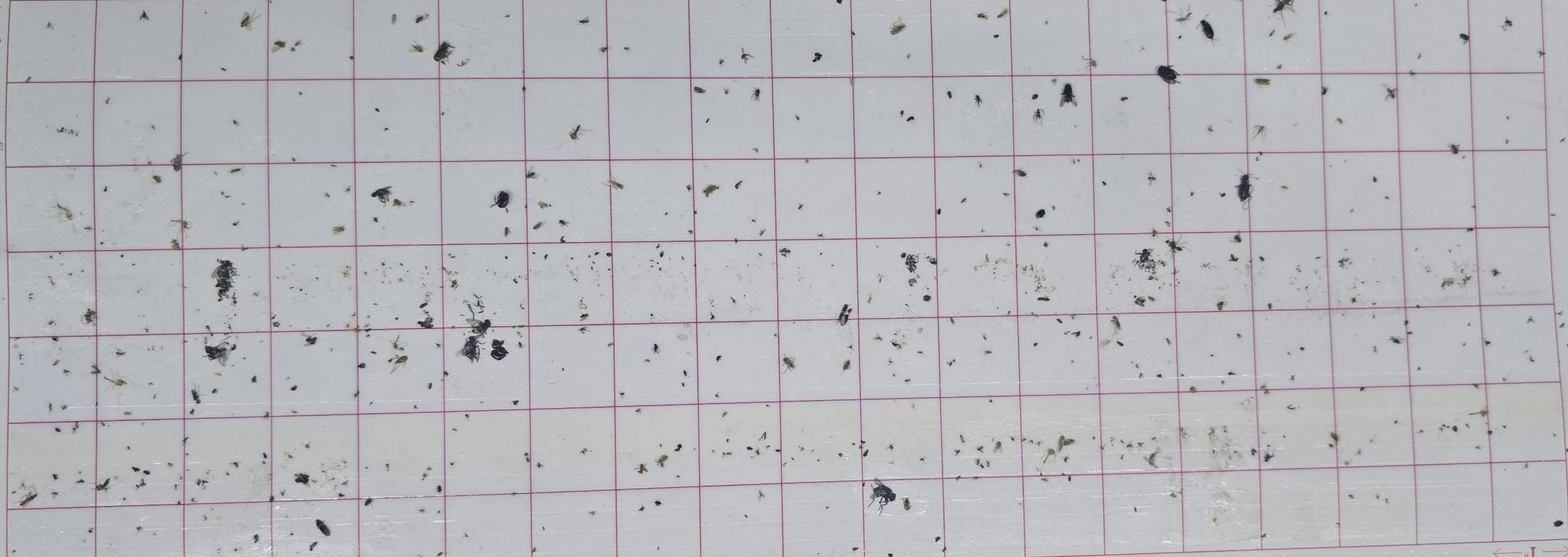fly: (210, 256, 241, 307), (197, 342, 241, 373), (863, 473, 903, 506), (1153, 60, 1188, 90), (459, 338, 488, 364), (1058, 80, 1082, 111), (1237, 168, 1257, 205), (485, 337, 511, 364), (468, 316, 497, 338), (429, 40, 454, 63), (490, 186, 512, 212)
test: (897, 247, 930, 283), (1133, 243, 1160, 281), (51, 197, 80, 223), (168, 148, 192, 177), (99, 373, 133, 393), (15, 492, 46, 512), (837, 298, 857, 329), (305, 517, 338, 535), (53, 121, 82, 141), (1164, 234, 1186, 259), (603, 174, 630, 194), (75, 303, 101, 323), (1444, 137, 1467, 159), (93, 475, 115, 497), (261, 37, 291, 53), (303, 327, 323, 351), (495, 223, 519, 243), (329, 217, 351, 238), (1254, 71, 1277, 91), (894, 493, 921, 510), (1270, 0, 1298, 16), (886, 18, 912, 35), (1080, 51, 1106, 68), (735, 46, 757, 66), (1199, 18, 1217, 42), (700, 181, 724, 199), (225, 159, 249, 177), (387, 353, 411, 371), (1467, 404, 1491, 422), (1175, 5, 1195, 26), (1257, 376, 1277, 397), (521, 166, 543, 185), (238, 9, 261, 27), (40, 15, 58, 38), (265, 311, 281, 336), (1057, 433, 1077, 453), (779, 356, 800, 375), (1389, 331, 1407, 353), (371, 186, 391, 205), (1250, 122, 1270, 141), (1107, 309, 1126, 329), (417, 314, 437, 333), (563, 122, 581, 143), (1531, 44, 1552, 62), (135, 4, 152, 26), (190, 383, 207, 405), (192, 473, 214, 490), (1139, 450, 1162, 466), (634, 459, 654, 477), (245, 528, 269, 543), (656, 451, 674, 471), (199, 320, 219, 338), (1186, 380, 1204, 400), (292, 470, 313, 487), (1009, 163, 1031, 179), (431, 479, 450, 497), (1522, 311, 1541, 329), (225, 115, 245, 132), (1204, 117, 1221, 137), (214, 185, 238, 199), (691, 82, 713, 97), (645, 340, 667, 355), (20, 71, 42, 86), (1497, 13, 1515, 31), (148, 168, 166, 186), (1385, 82, 1402, 101), (970, 91, 989, 108), (166, 234, 186, 250), (1499, 110, 1519, 126), (535, 197, 556, 212), (1212, 296, 1226, 318), (347, 386, 369, 400), (989, 439, 1011, 453), (413, 9, 431, 26), (318, 188, 336, 205), (943, 356, 961, 373), (387, 334, 404, 352), (1040, 448, 1058, 465), (810, 49, 826, 68), (749, 86, 768, 102), (945, 314, 961, 333), (1131, 291, 1150, 307), (618, 38, 634, 57), (1160, 201, 1179, 217), (387, 7, 402, 27), (1228, 228, 1248, 243), (1140, 168, 1160, 183), (177, 433, 197, 448), (256, 406, 272, 424), (711, 351, 727, 369), (446, 274, 462, 292), (366, 212, 384, 228), (1458, 26, 1471, 48), (1332, 113, 1347, 132), (1001, 188, 1022, 201), (524, 543, 545, 556), (941, 86, 958, 102), (1276, 179, 1292, 196), (236, 241, 252, 258), (409, 40, 424, 58), (731, 175, 749, 190), (1223, 252, 1241, 267), (305, 539, 323, 554), (1318, 82, 1332, 101), (1279, 29, 1299, 42), (773, 245, 793, 258), (110, 347, 130, 360), (119, 406, 135, 422), (1519, 457, 1535, 473), (585, 503, 601, 519), (227, 216, 243, 232), (1069, 327, 1084, 344), (958, 429, 970, 450), (48, 329, 62, 347), (172, 217, 194, 228), (996, 7, 1012, 22), (530, 219, 546, 234), (1029, 207, 1046, 221), (1184, 185, 1201, 199), (866, 331, 883, 345), (360, 495, 378, 508), (678, 365, 696, 378), (1223, 367, 1241, 380), (1034, 473, 1052, 486), (837, 356, 852, 371), (51, 424, 66, 439), (948, 471, 963, 486), (574, 15, 590, 29), (1033, 108, 1047, 124), (1261, 450, 1277, 464), (88, 362, 102, 378), (174, 48, 188, 64), (1148, 225, 1162, 241), (757, 426, 773, 440), (799, 152, 815, 166), (461, 408, 477, 422), (369, 104, 386, 117), (44, 400, 57, 417), (846, 539, 863, 552), (753, 227, 771, 239), (1488, 265, 1502, 280), (508, 395, 523, 409), (930, 532, 945, 546), (901, 373, 916, 387), (974, 457, 989, 471), (1285, 369, 1299, 384), (598, 40, 614, 53), (1550, 517, 1566, 530), (101, 93, 117, 106), (1232, 327, 1248, 340), (651, 497, 669, 508), (934, 205, 948, 219), (44, 274, 58, 288), (1029, 88, 1044, 101), (287, 382, 300, 397), (1038, 294, 1053, 307), (1118, 93, 1133, 106), (71, 418, 84, 433), (424, 378, 439, 391), (1115, 336, 1128, 351), (700, 111, 713, 126), (713, 389, 726, 404), (50, 487, 63, 502), (80, 223, 95, 236), (1339, 255, 1352, 270), (956, 194, 972, 206), (523, 450, 535, 466), (258, 448, 270, 464), (300, 439, 316, 451), (981, 347, 998, 358), (1255, 530, 1272, 541), (126, 461, 139, 475), (353, 360, 367, 373), (554, 234, 568, 247), (48, 471, 62, 484), (616, 386, 629, 400), (340, 183, 353, 197), (163, 457, 177, 470), (141, 466, 155, 479), (863, 292, 876, 306), (718, 408, 733, 420), (281, 450, 296, 462), (393, 197, 409, 208), (1356, 382, 1367, 398), (554, 216, 570, 227), (715, 53, 726, 69), (1159, 216, 1175, 227), (1371, 340, 1382, 356), (722, 82, 731, 101), (974, 7, 987, 20), (1482, 338, 1495, 351), (58, 400, 71, 413), (146, 119, 159, 132), (859, 446, 872, 459), (755, 486, 768, 499), (729, 234, 742, 247), (446, 457, 459, 470), (291, 37, 303, 51), (263, 494, 277, 506), (1413, 298, 1425, 312), (1466, 221, 1477, 236), (517, 82, 532, 93), (795, 197, 806, 212), (923, 292, 934, 307), (751, 144, 766, 155), (974, 159, 989, 170), (101, 181, 113, 194), (1266, 300, 1279, 312), (1413, 49, 1425, 62), (1135, 369, 1147, 382), (1330, 428, 1341, 442), (247, 373, 261, 384), (228, 457, 239, 471), (1164, 333, 1175, 347), (576, 446, 590, 457), (576, 311, 590, 322), (446, 247, 457, 261), (1266, 26, 1277, 40), (639, 357, 654, 367), (1404, 68, 1420, 77), (26, 289, 38, 301), (1257, 250, 1270, 261), (846, 27, 859, 38), (217, 62, 228, 75), (75, 475, 88, 486), (334, 488, 345, 501), (327, 157, 338, 170), (1054, 314, 1065, 327), (978, 329, 989, 342), (813, 228, 826, 239), (1029, 307, 1040, 320), (136, 479, 147, 492), (1130, 503, 1143, 514), (1347, 206, 1360, 217), (1349, 296, 1360, 309), (1029, 338, 1044, 347), (1283, 402, 1298, 411), (1345, 490, 1360, 499), (1064, 471, 1073, 486), (682, 181, 694, 192), (885, 440, 897, 451), (170, 481, 181, 493), (366, 346, 378, 357), (97, 419, 109, 430), (1154, 370, 1165, 382), (1136, 439, 1147, 451), (1167, 488, 1179, 499), (673, 440, 683, 453), (86, 524, 99, 534), (1061, 453, 1074, 463), (1449, 424, 1462, 434), (289, 408, 303, 417), (707, 309, 716, 323), (991, 31, 1005, 40), (1371, 174, 1382, 185), (51, 356, 62, 367), (1217, 188, 1228, 199), (380, 459, 391, 470), (435, 546, 446, 557), (1526, 351, 1537, 362), (1502, 135, 1513, 146), (417, 506, 428, 517), (432, 339, 444, 349), (353, 324, 363, 336), (1098, 443, 1108, 455), (890, 341, 903, 350), (791, 108, 800, 121), (577, 325, 590, 334), (347, 51, 356, 64), (603, 340, 616, 349), (683, 227, 696, 236), (292, 86, 305, 95), (727, 294, 736, 307), (380, 124, 393, 133), (417, 300, 430, 309), (975, 444, 988, 453), (770, 447, 784, 455), (517, 339, 527, 350), (61, 368, 72, 378), (918, 456, 928, 467), (939, 544, 949, 555), (1499, 375, 1510, 385), (459, 60, 469, 71), (1248, 447, 1258, 458), (47, 318, 59, 327), (747, 216, 759, 225), (1312, 253, 1324, 262), (1205, 352, 1217, 361), (720, 449, 733, 457), (274, 243, 284, 253), (514, 329, 524, 339), (606, 249, 616, 259), (846, 342, 856, 352), (971, 473, 981, 483), (11, 384, 21, 394), (1355, 446, 1365, 456), (906, 115, 917, 124), (1100, 175, 1109, 186), (636, 503, 645, 514), (1402, 316, 1413, 325), (1471, 380, 1482, 389), (632, 404, 641, 415), (659, 249, 668, 260), (914, 347, 925, 356), (874, 188, 886, 196), (188, 496, 200, 504), (1390, 418, 1402, 426), (17, 352, 25, 364), (287, 154, 300, 161), (209, 385, 218, 395), (443, 368, 452, 378), (462, 529, 471, 539), (742, 512, 751, 522), (1126, 441, 1135, 451), (1557, 136, 1566, 146), (136, 524, 144, 535), (452, 425, 460, 436), (541, 522, 549, 533), (175, 499, 184, 508), (678, 253, 687, 262), (1416, 365, 1425, 374), (1485, 427, 1494, 436), (510, 276, 519, 285), (1220, 426, 1229, 435), (1555, 308, 1564, 317), (413, 403, 421, 413), (952, 448, 962, 456), (1149, 434, 1157, 444), (1177, 370, 1187, 378), (509, 490, 519, 498), (1068, 312, 1078, 320), (1334, 520, 1344, 528), (689, 205, 700, 212), (543, 252, 550, 263), (340, 479, 351, 486), (1559, 321, 1566, 332), (142, 326, 150, 335), (745, 443, 753, 452), (592, 250, 601, 258), (1118, 453, 1127, 461), (117, 252, 126, 260), (223, 471, 232, 479), (11, 546, 19, 555), (789, 455, 797, 464), (1284, 350, 1293, 358), (1049, 77, 1058, 85), (534, 462, 544, 469), (1342, 247, 1352, 254), (210, 168, 218, 176), (97, 239, 105, 247), (903, 301, 911, 309), (1418, 426, 1426, 434), (1474, 444, 1482, 452), (1469, 203, 1477, 211), (1549, 211, 1557, 219), (1006, 241, 1014, 249), (422, 472, 430, 480), (1299, 344, 1308, 351), (1042, 238, 1049, 247), (655, 241, 662, 250), (147, 380, 156, 387), (755, 448, 762, 457), (885, 550, 894, 557), (1382, 194, 1391, 201), (1382, 498, 1391, 505), (408, 197, 417, 204), (439, 109, 448, 116), (367, 399, 376, 406), (859, 438, 868, 445), (1293, 266, 1302, 273), (426, 464, 433, 473), (200, 515, 210, 521), (151, 392, 158, 400), (399, 260, 407, 267), (906, 52, 914, 59), (182, 337, 189, 345), (518, 302, 525, 310), (675, 472, 682, 480), (836, 451, 844, 458), (1343, 459, 1351, 466), (1328, 443, 1336, 450), (1413, 245, 1420, 253), (1275, 64, 1282, 72), (1033, 226, 1041, 233), (1405, 330, 1416, 335), (379, 260, 388, 266), (79, 268, 88, 274), (233, 546, 242, 552), (1175, 35, 1184, 41), (327, 346, 334, 353), (823, 504, 830, 511), (887, 358, 894, 365), (1465, 321, 1472, 328), (1446, 248, 1453, 255), (817, 250, 824, 257), (189, 407, 196, 414), (1500, 424, 1508, 430), (502, 254, 510, 260), (531, 250, 539, 256), (506, 12, 512, 20), (12, 335, 20, 341), (194, 308, 200, 316), (1009, 435, 1017, 441), (1135, 361, 1141, 369), (1370, 301, 1378, 307), (899, 108, 905, 116), (1044, 18, 1049, 27), (679, 380, 685, 387), (664, 210, 670, 217), (608, 265, 614, 272), (299, 285, 305, 292), (66, 271, 73, 277), (49, 253, 55, 260), (344, 322, 350, 329), (274, 275, 281, 281), (399, 276, 405, 283), (851, 441, 857, 448), (816, 457, 822, 464), (1036, 439, 1042, 446), (1280, 433, 1287, 439), (1371, 314, 1377, 321), (1464, 423, 1471, 429), (1076, 156, 1082, 163), (654, 545, 661, 551), (435, 509, 442, 515), (184, 450, 191, 456), (93, 401, 100, 407), (252, 291, 260, 296), (1375, 492, 1380, 500), (1441, 420, 1446, 428), (289, 285, 295, 291), (314, 275, 320, 281), (561, 366, 567, 372), (393, 315, 399, 321), (988, 398, 994, 404), (1462, 341, 1468, 347), (1322, 10, 1328, 16), (979, 228, 985, 234), (649, 257, 656, 262), (127, 444, 132, 451), (120, 496, 127, 501), (771, 333, 778, 338), (1091, 434, 1096, 441), (1089, 333, 1094, 340), (1265, 443, 1272, 448), (1359, 280, 1366, 285), (1437, 426, 1444, 431), (1551, 432, 1558, 437), (1071, 159, 1076, 166), (659, 264, 663, 272), (365, 327, 373, 331), (590, 266, 595, 272), (131, 262, 136, 268), (57, 250, 63, 255), (350, 312, 356, 317), (373, 301, 379, 306), (424, 264, 429, 270), (765, 403, 770, 409), (791, 321, 797, 326), (783, 460, 788, 466), (892, 331, 898, 336), (1368, 437, 1374, 442), (1376, 279, 1381, 285), (1341, 159, 1347, 164), (1049, 205, 1055, 210), (1024, 291, 1029, 297), (891, 373, 897, 378), (141, 420, 146, 426), (361, 270, 368, 274), (290, 263, 297, 267), (711, 448, 715, 455), (1120, 437, 1124, 444), (204, 9, 208, 16), (268, 1, 275, 5), (440, 285, 445, 290), (380, 279, 385, 284), (726, 438, 731, 443), (798, 445, 803, 450), (1021, 437, 1026, 442), (1006, 309, 1011, 314), (1304, 285, 1309, 290), (1413, 2, 1418, 7), (587, 253, 593, 257), (589, 260, 595, 264), (649, 312, 655, 316), (365, 333, 371, 337), (285, 375, 291, 379), (365, 315, 371, 319), (1030, 437, 1034, 443), (996, 305, 1000, 311), (364, 464, 369, 468), (326, 323, 331, 327), (479, 399, 484, 403), (692, 447, 697, 451), (658, 443, 663, 447), (1071, 358, 1075, 363), (1341, 312, 1346, 316), (1327, 164, 1331, 169), (426, 271, 430, 275), (153, 532, 157, 536)
